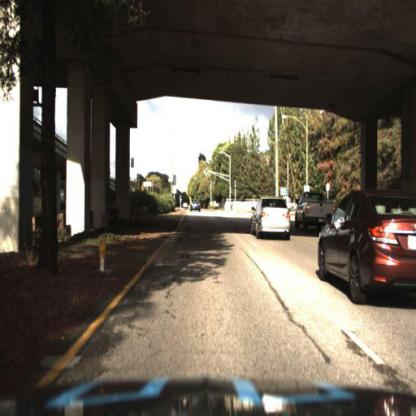car: (319, 182, 416, 319), (250, 190, 296, 241), (295, 189, 335, 232), (189, 198, 203, 214)
